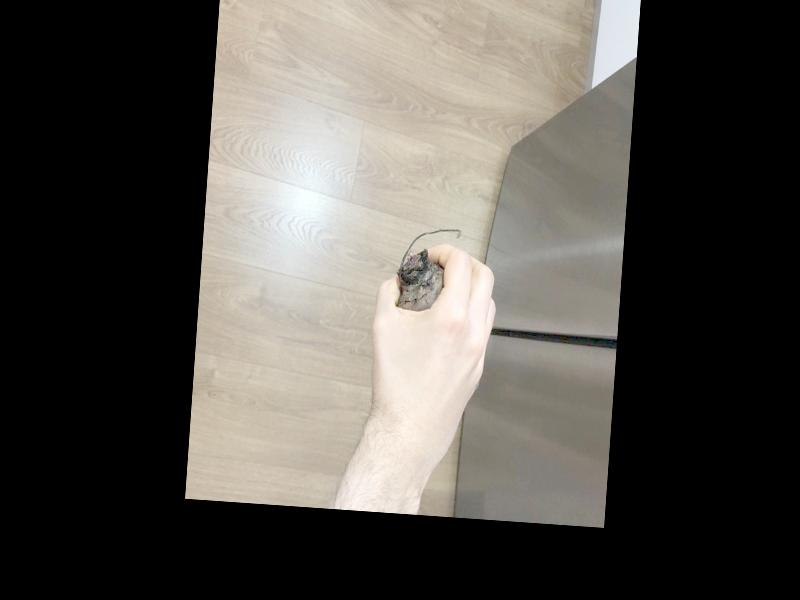Beet: (395, 223, 462, 313)
